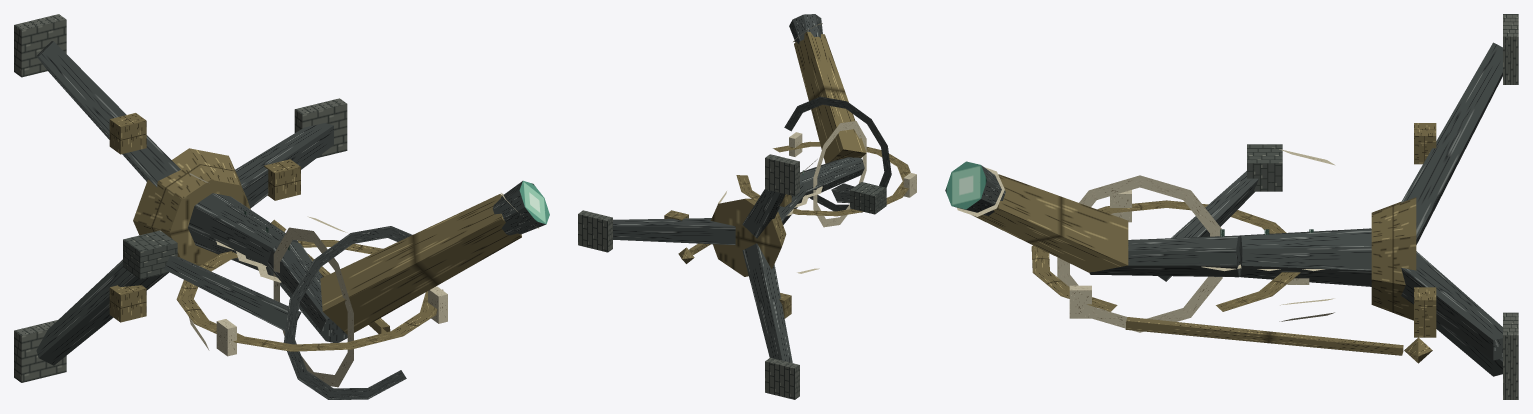
The model's file is relay-sextant.obj.
The picture shows the model from 3 angles, left to right: view 1: azimuth 30°, elevation 25°; view 2: azimuth 150°, elevation 25°; view 3: azimuth 270°, elevation 25°; orthographic projection. The views are drawn at different scales.
Visible parts, largest first — view 1: base, scope, ring, dials; view 2: base, scope, ring; view 3: base, scope, ring, dials.
Part boxes in pixels (x1,y1,x2,y2): base: (14, 14, 347, 382); scope: (123, 180, 549, 334); ring: (176, 226, 447, 399); dials: (189, 173, 347, 350); base: (578, 154, 864, 399); scope: (678, 14, 886, 263); ring: (736, 96, 916, 227); base: (1089, 14, 1518, 399); scope: (945, 144, 1432, 363); ring: (1031, 175, 1309, 332); dials: (1201, 149, 1335, 321).
Bounding box in the file's own units: 1.77 × 1.8 × 2.57.
1 material, 1 textured.
